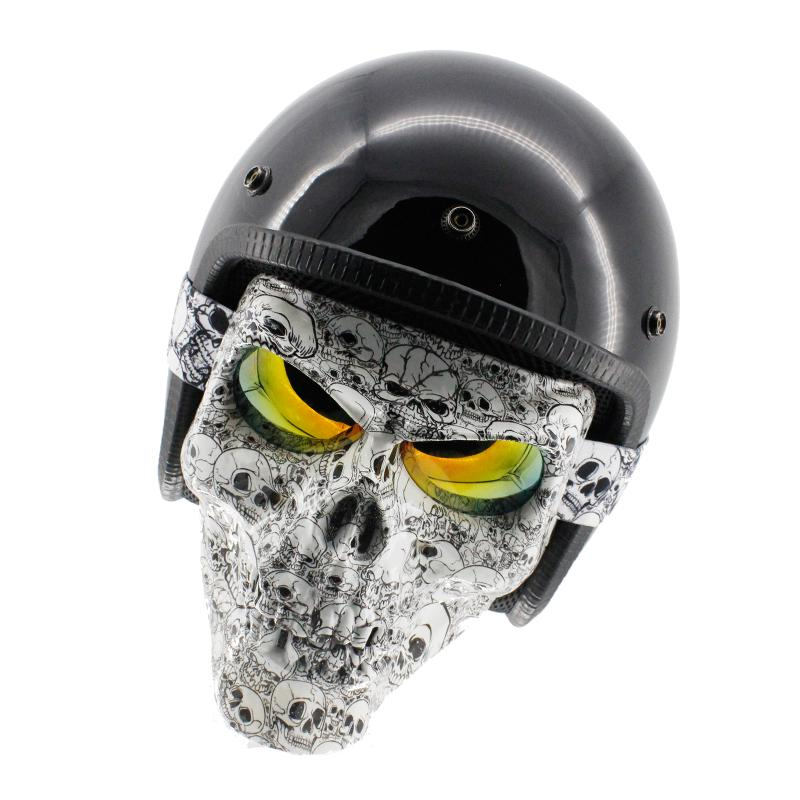with_helmet: (115, 43, 689, 625)
